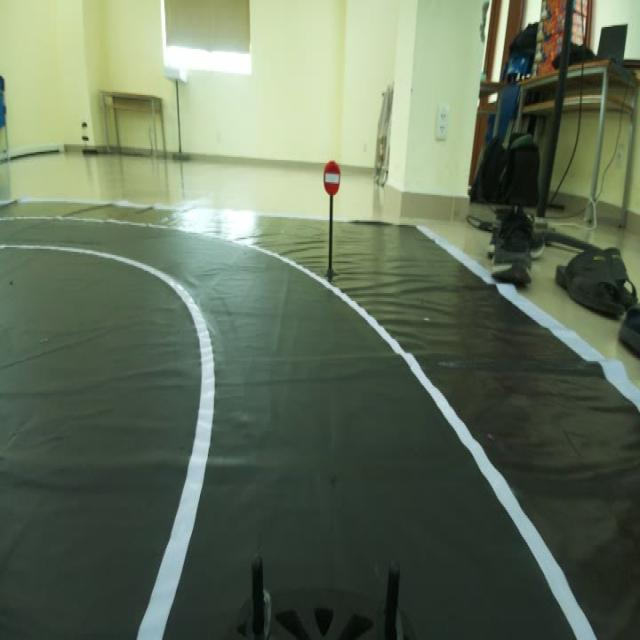no_entry: (320, 152, 348, 209)
